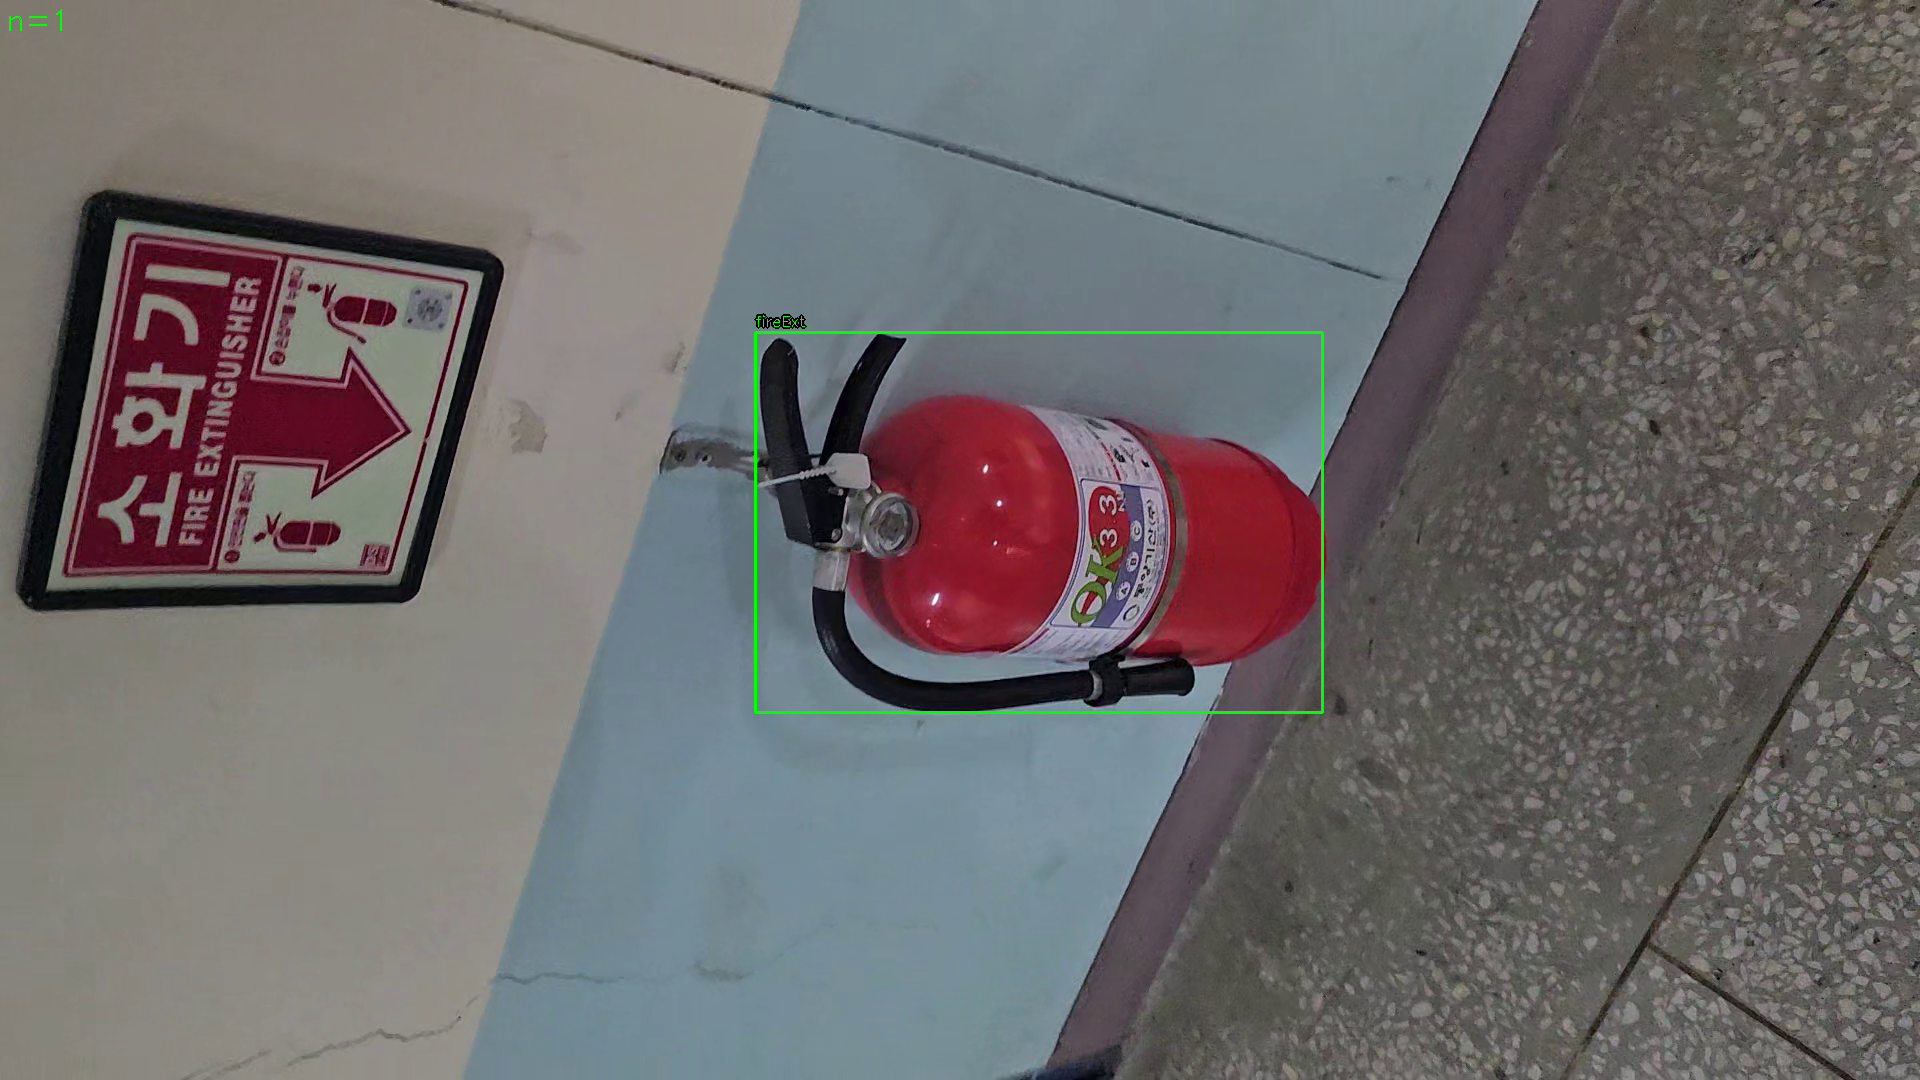lane: (756, 332, 1323, 713)
